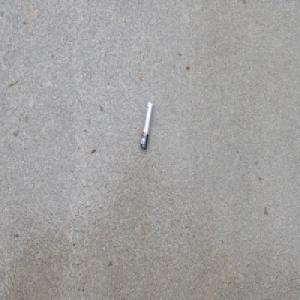Battery: (138, 100, 153, 151)
